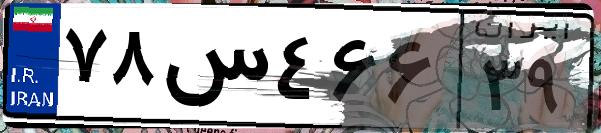3: (475, 38, 525, 113)
4: (270, 28, 330, 110)
6: (385, 28, 445, 110), (330, 28, 385, 110)
7: (57, 26, 110, 100)
8: (110, 28, 158, 98)
9: (525, 38, 570, 115)
س: (158, 20, 270, 120)
